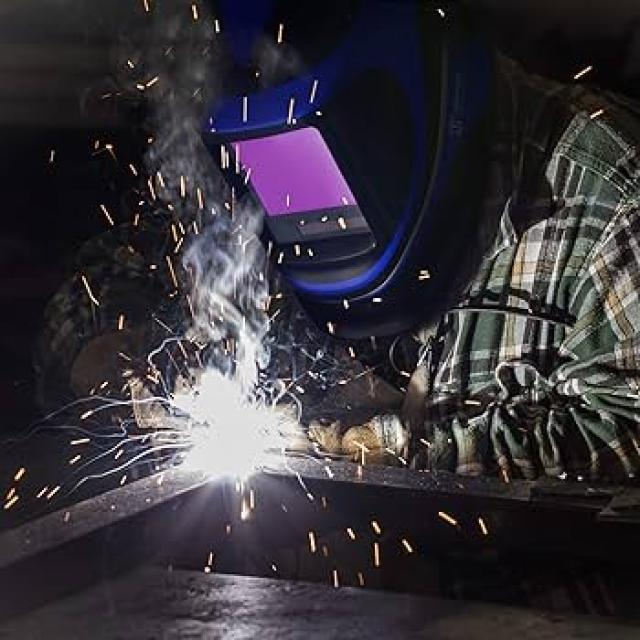with_helmet: (203, 6, 508, 343)
